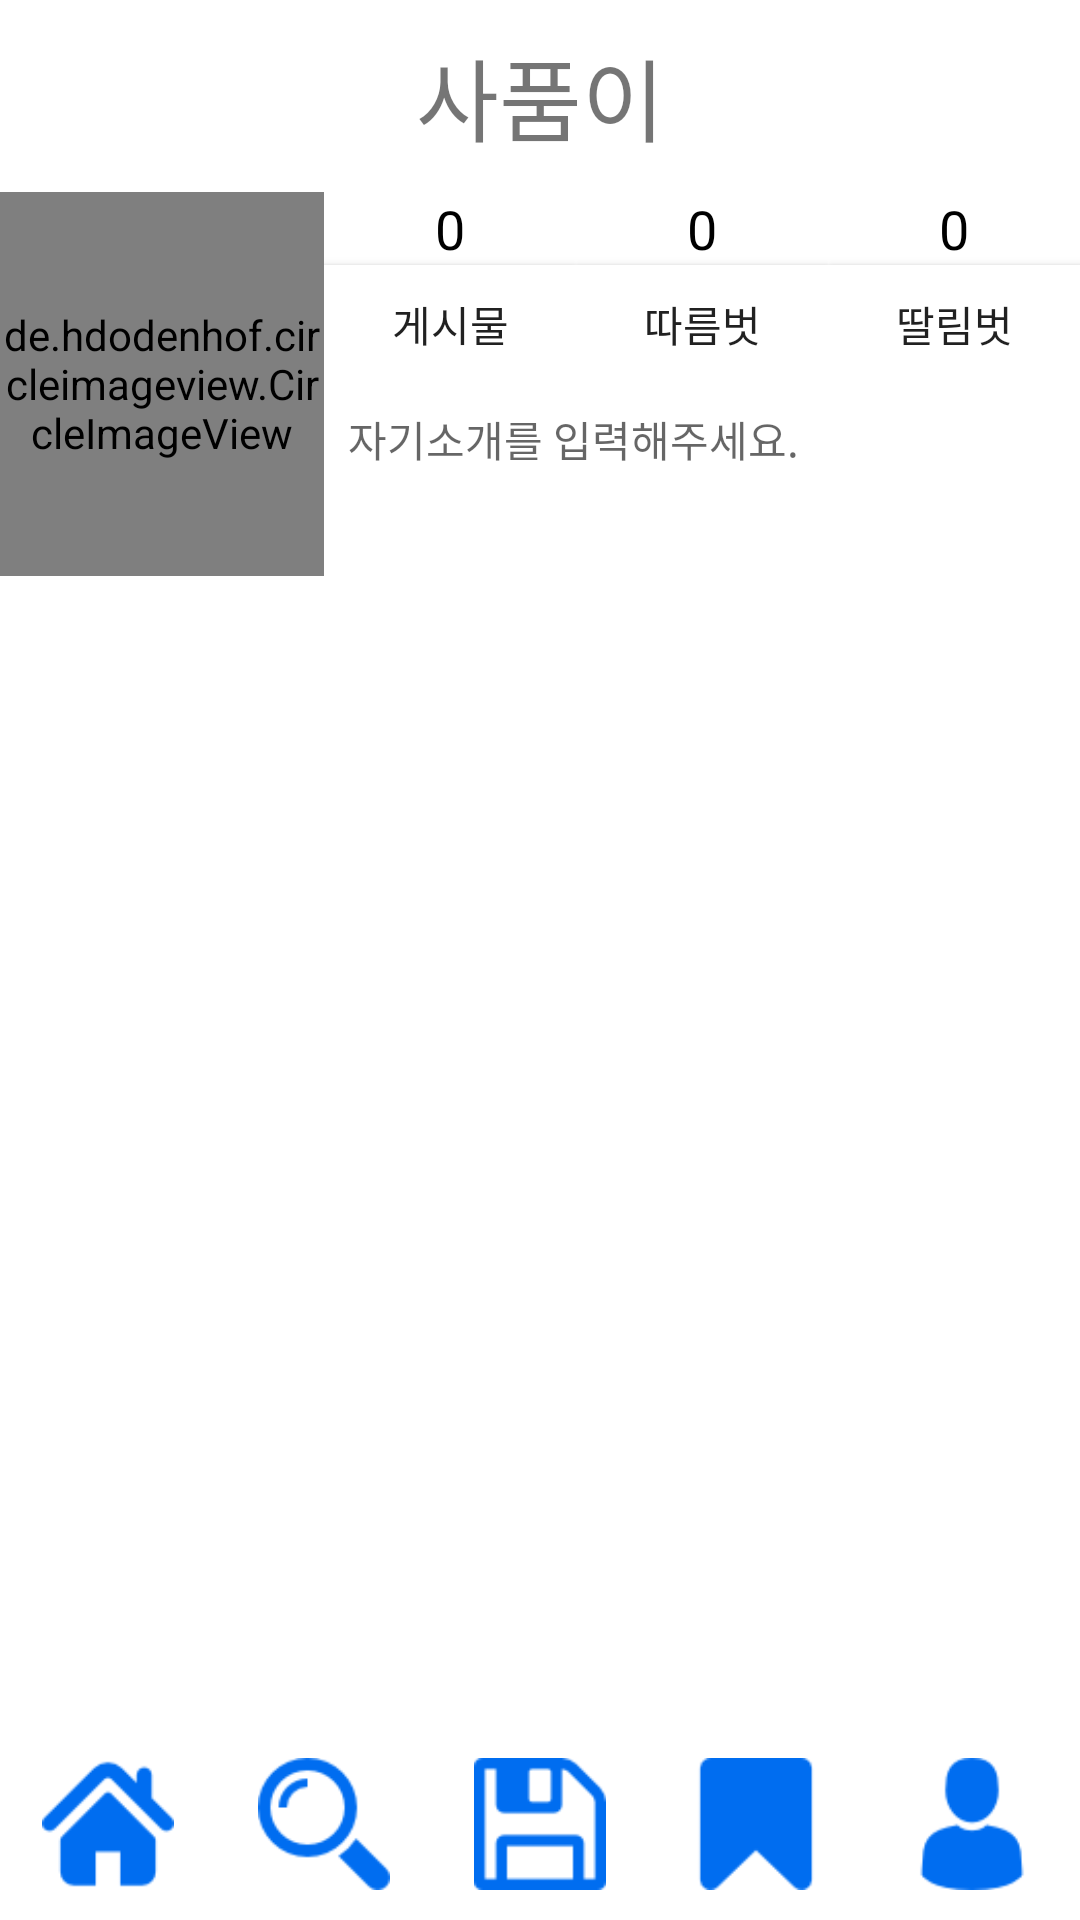

Screen size 1080 × 1920. Icon name, then its box in pixels as (x1, y1, x2, y2):
bookmark: (699, 1758, 813, 1890)
home: (42, 1761, 174, 1887)
mine: (920, 1758, 1024, 1890)
save: (474, 1758, 606, 1890)
search: (258, 1758, 390, 1890)
